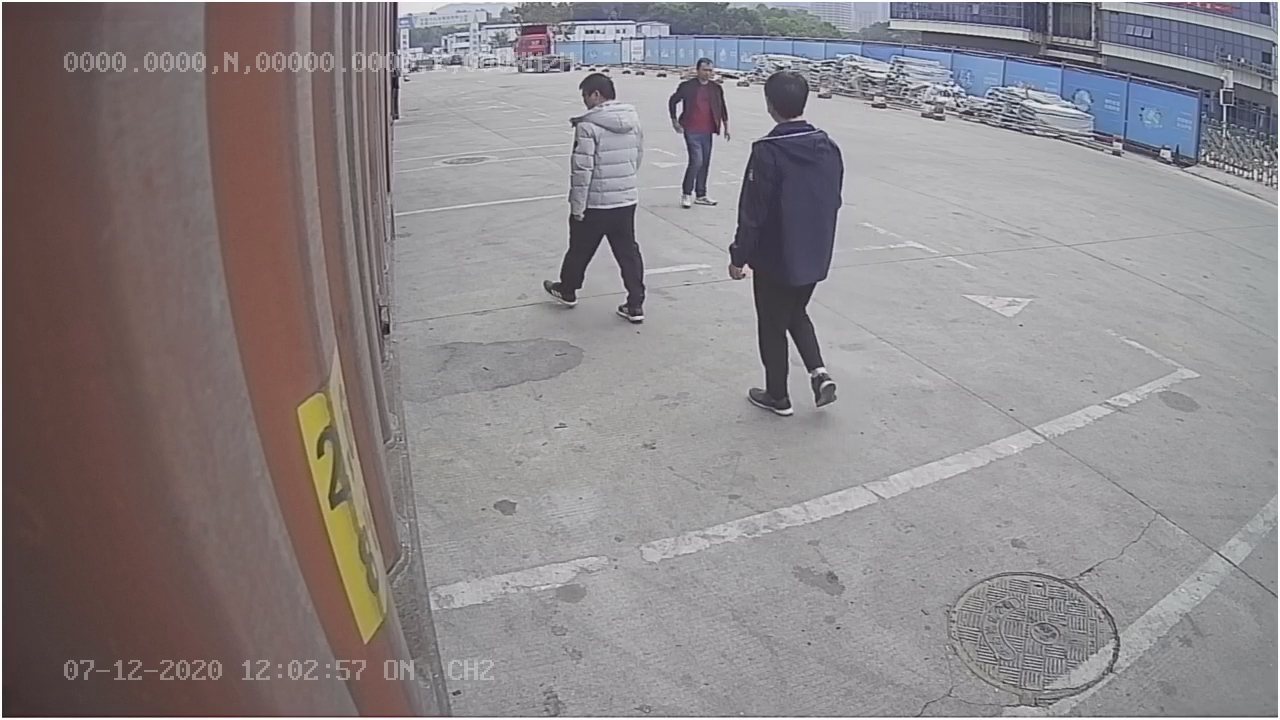person: (726, 62, 842, 417), (542, 71, 650, 329)
